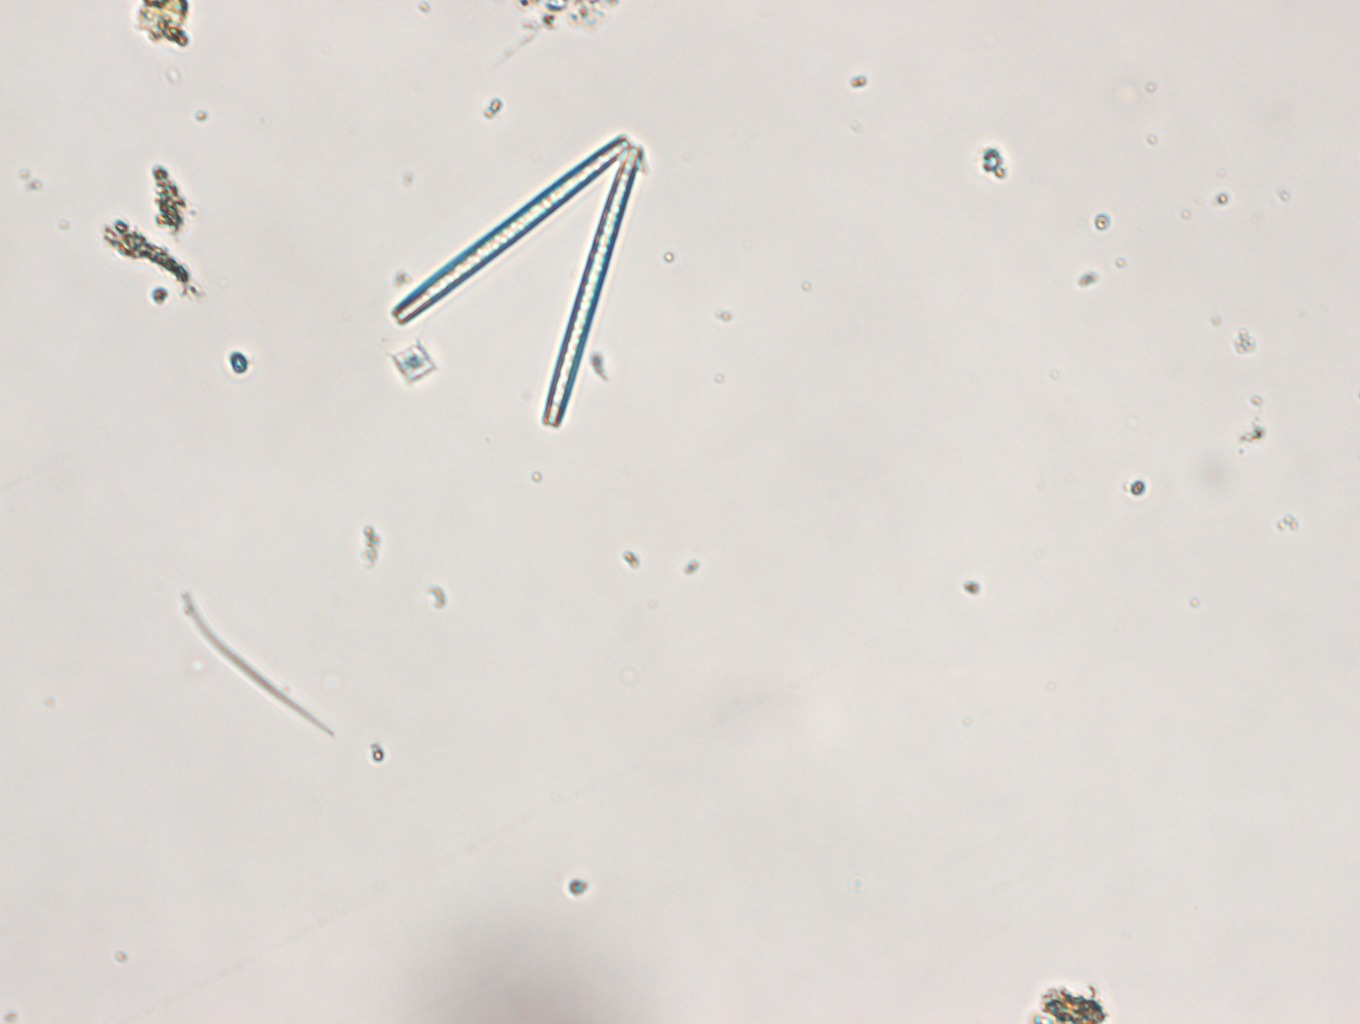thalassionema frauenfeldii: (381, 117, 655, 443)
